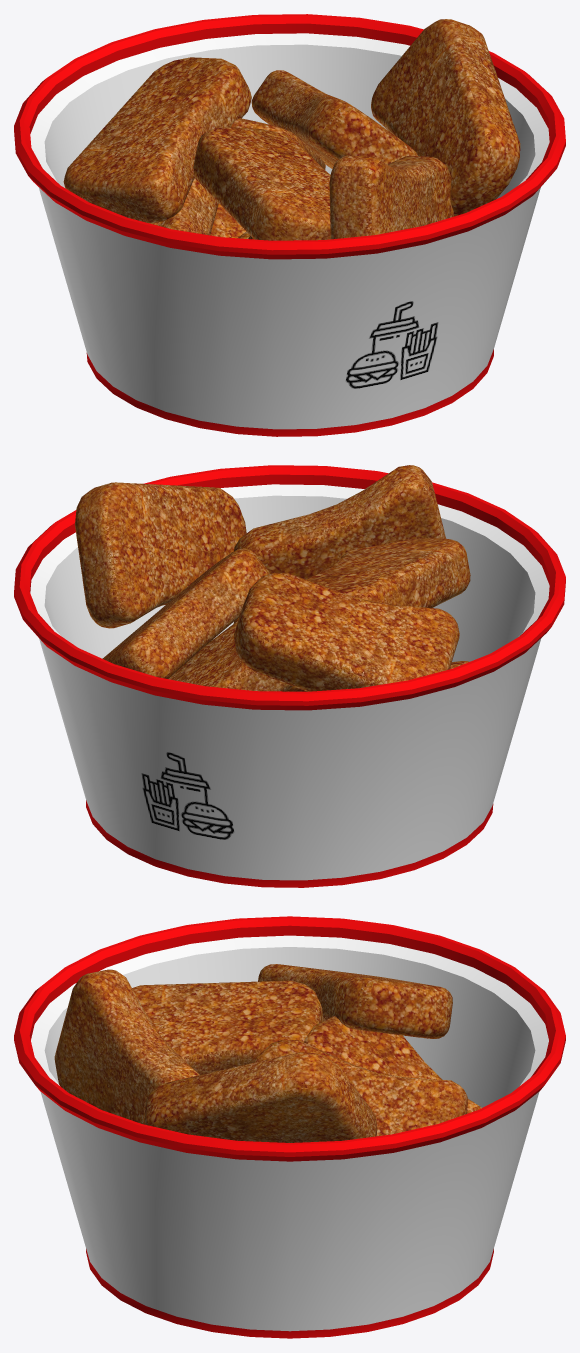
File: kipnugget bak.fbx
The picture shows the model from 3 angles, top to bottom: view 1: azimuth 30°, elevation 25°; view 2: azimuth 150°, elevation 25°; view 3: azimuth 270°, elevation 25°; orthographic projection.
Parts seen in each view (by area): view 1: Cylinder, Cube.009, Cube.008, Cube.007, Cube.010, Cube.006, Cube.002, Cube.012, Cube.003; view 2: Cylinder, Cube.008, Cube.009, Cube.010, Cube.006, Cube.007, Cube.003; view 3: Cylinder, Cube.009, Cube.010, Cube.007, Cube.008, Cube.006, Cube.003.
Boxes of the visible parts, x1,y1,x2,y2 form: Cylinder: (14, 14, 565, 436); Cube.009: (371, 19, 520, 216); Cube.008: (63, 57, 251, 223); Cube.007: (193, 127, 330, 240); Cube.010: (329, 155, 453, 239); Cube.006: (251, 70, 417, 168); Cube.002: (158, 178, 218, 235); Cube.012: (210, 203, 246, 238); Cube.003: (231, 118, 325, 169); Cylinder: (14, 465, 565, 887); Cube.008: (233, 572, 459, 691); Cube.009: (75, 482, 246, 628); Cube.010: (234, 465, 445, 579); Cube.006: (102, 548, 270, 678); Cube.007: (306, 538, 470, 607); Cube.003: (168, 621, 292, 691); Cylinder: (14, 916, 565, 1338); Cube.009: (143, 1052, 377, 1142); Cube.010: (54, 969, 199, 1123); Cube.007: (132, 980, 323, 1074); Cube.008: (258, 964, 452, 1038); Cube.006: (254, 1040, 467, 1136); Cube.003: (304, 1016, 481, 1113).
Size of the model in its own units: 10.83 by 6.08 by 10.83.
